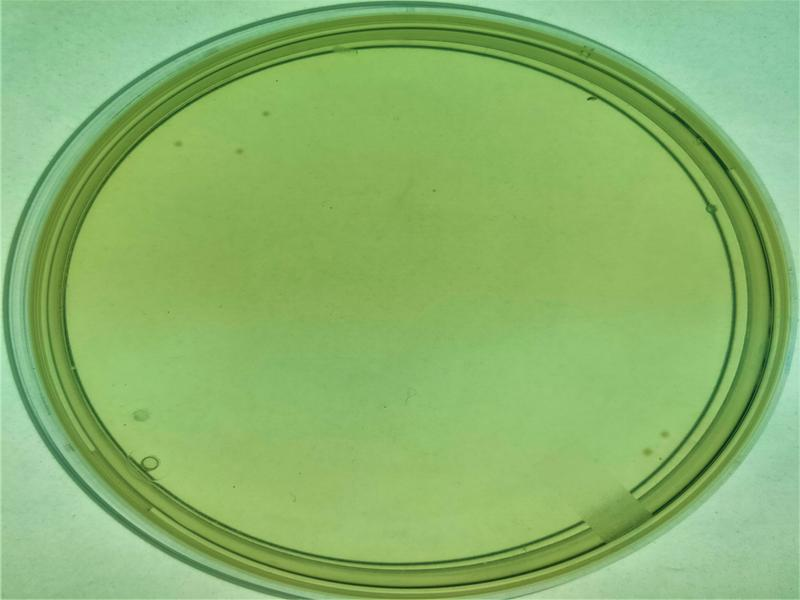colony: (225, 140, 256, 161), (653, 421, 678, 445), (254, 98, 274, 122), (166, 134, 189, 152), (634, 446, 657, 463)
